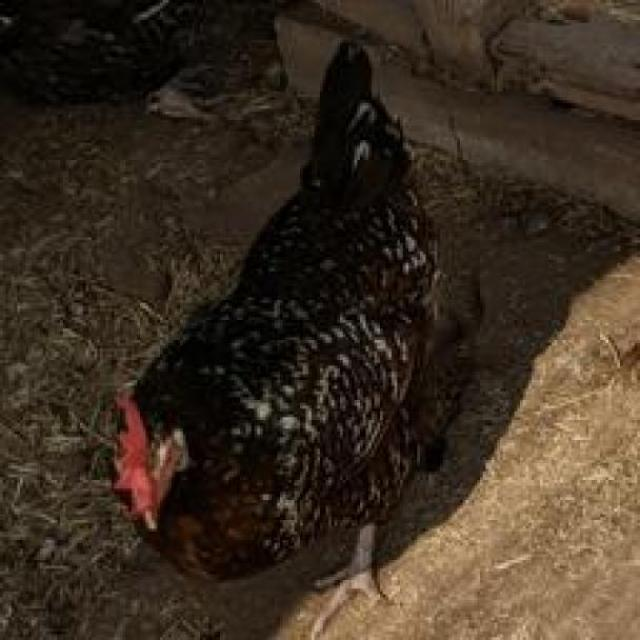Chicken: (82, 28, 483, 634)
